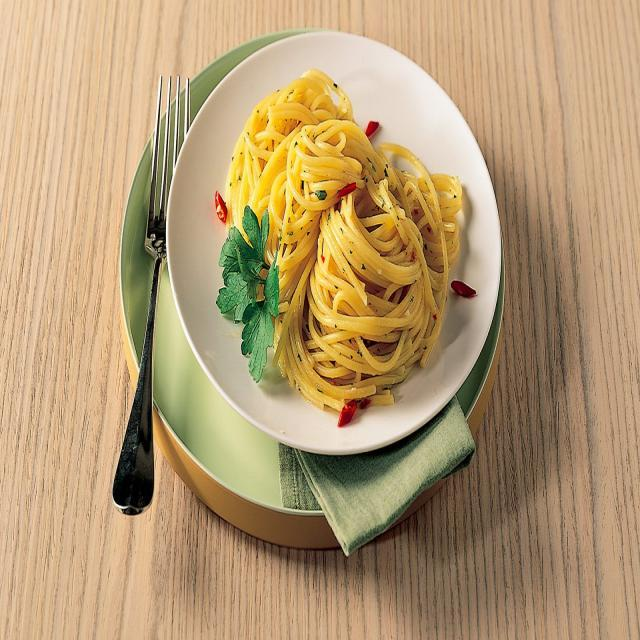Oil pasta: (178, 51, 541, 458)
